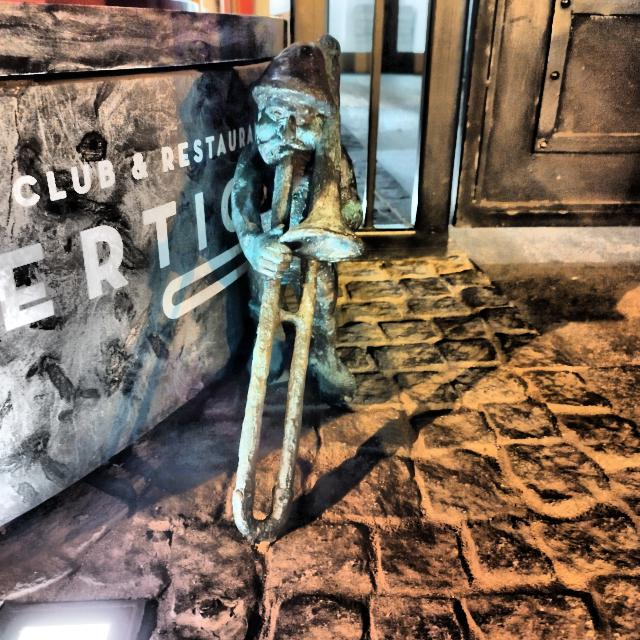Vertigus: (231, 35, 362, 544)
